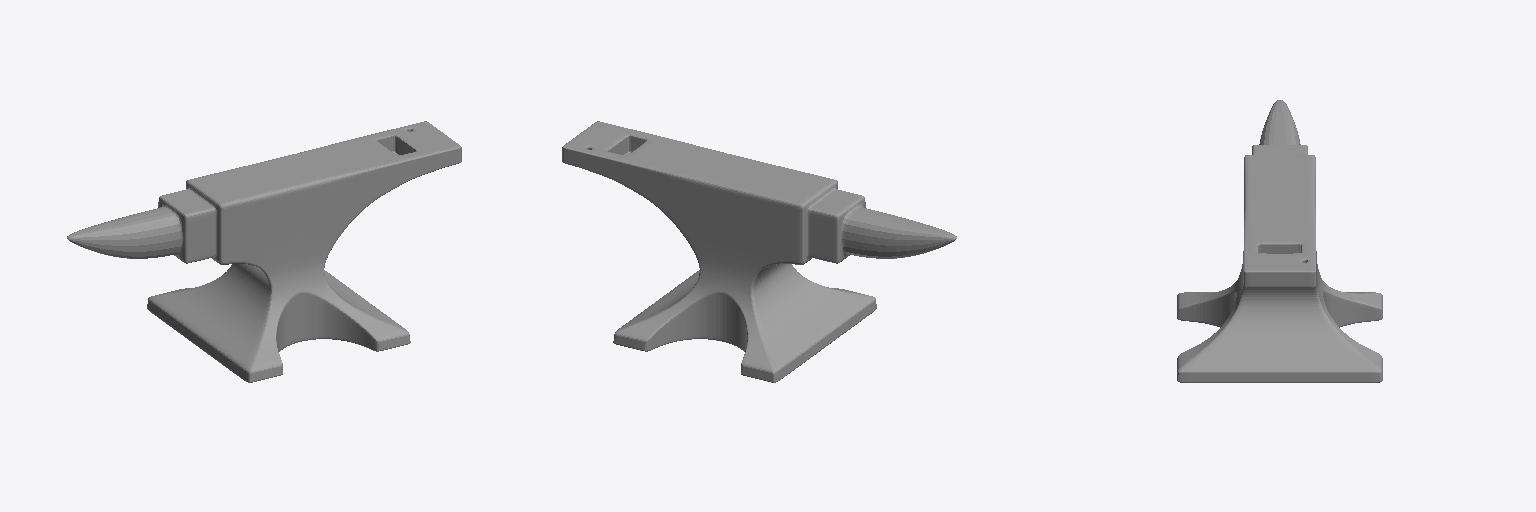
File: anvil.obj
3 views of the same model, side by side, from view 1: azimuth 30°, elevation 25°; view 2: azimuth 150°, elevation 25°; view 3: azimuth 270°, elevation 25° (orthographic).
Visible parts, largest first — view 1: Cube_Cube.001; view 2: Cube_Cube.001; view 3: Cube_Cube.001.
Part boxes in pixels (x1,y1,x2,y2): Cube_Cube.001: (67, 121, 461, 382); Cube_Cube.001: (562, 121, 956, 382); Cube_Cube.001: (1177, 100, 1382, 382).
Size of the model in its own units: 6.53 by 2.53 by 3.09.